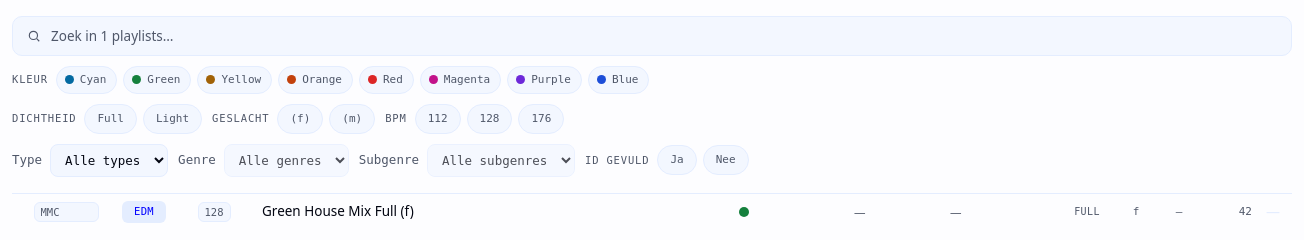
Test: PlaylistManager -- done-toggle request-sequencing › een trage, verouderde rollback overschrijft geen latere, alweer geslaagde toggle op dezelfde playlist
Click the button named "markeer als afgerond" at coordinates (1273, 212), box [1257, 205, 1289, 219]
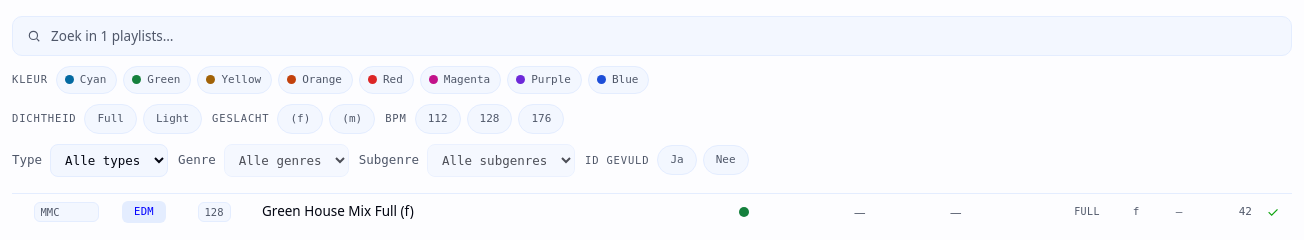
Click the button named "afgerond -- klik om te wissen" at coordinates (1273, 212), box [1257, 205, 1289, 219]
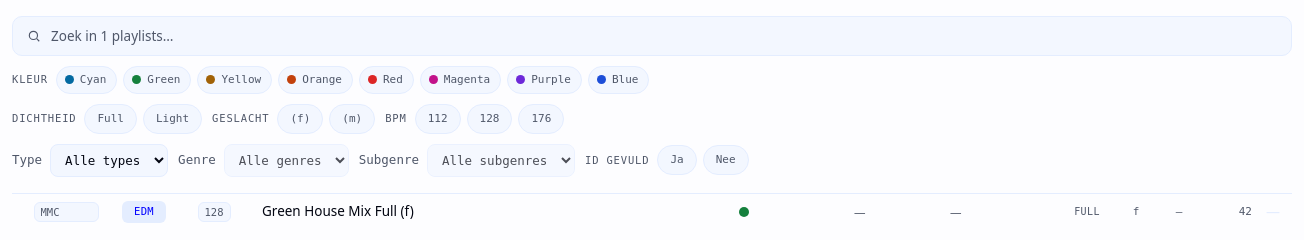
Expected: the button named "markeer als afgerond" is shown
Click the button named "markeer als afgerond" at coordinates (1273, 212), box [1257, 205, 1289, 219]
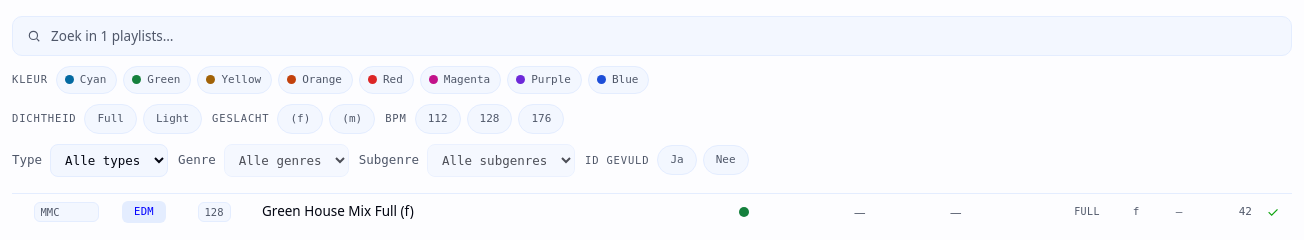
Expected: the button named "afgerond -- klik om te wissen" is shown, [1257, 205, 1289, 219]
